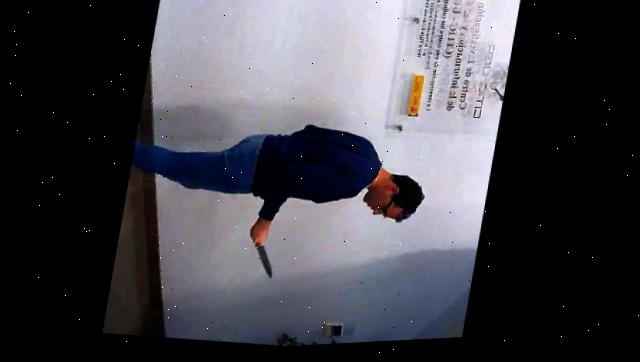pocket-knife: (241, 230, 287, 286)
